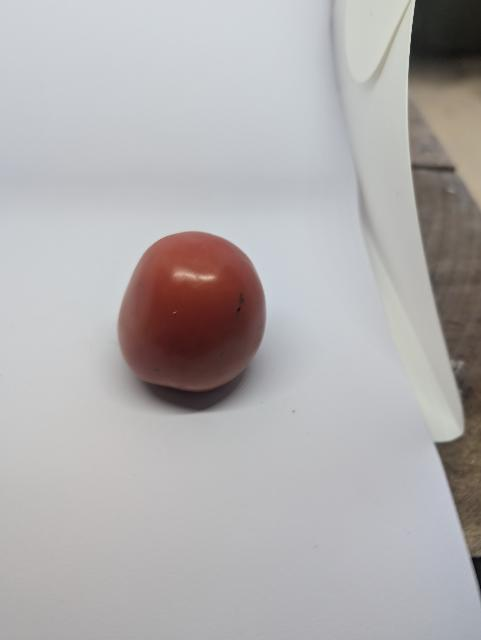red: (109, 228, 290, 408)
